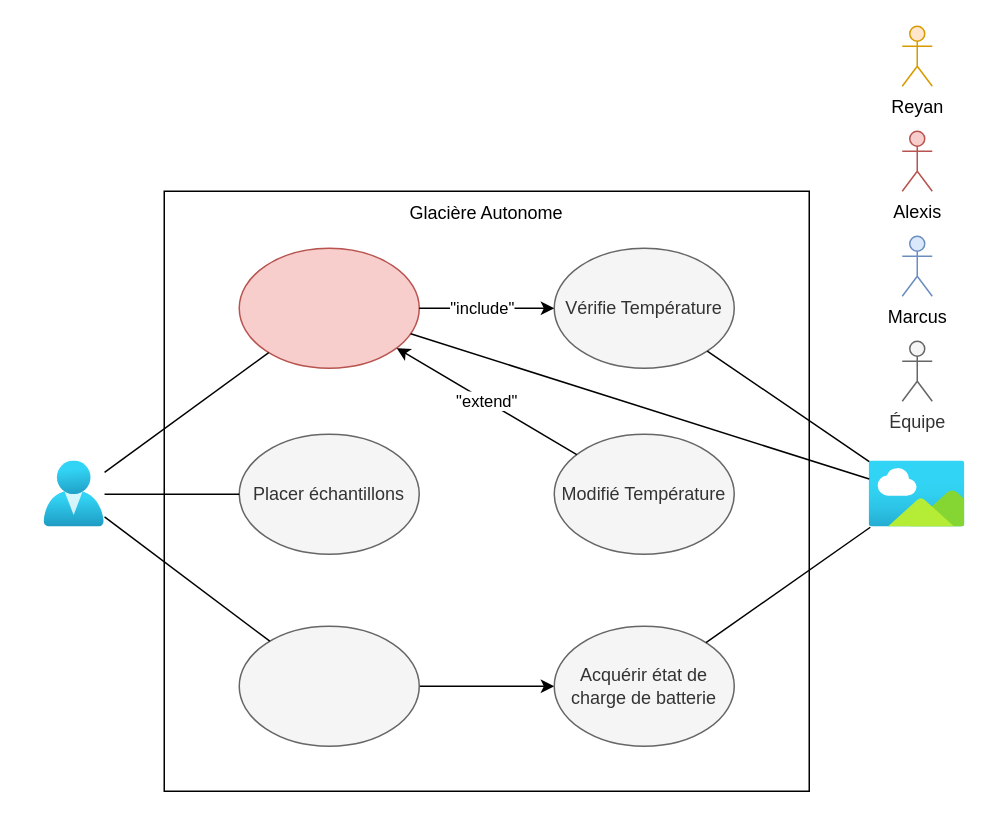
The diagram is 992 pixels wide and 818 high, and some of its shapes have lost their labels. The centre of each missing label's shape, as x and y in pixels:
Acquérir consigne température: point 328,307
Interface Homme / Machine: point 916,493
Recharger batterie: point 328,685
Élève de Lycée Thère: point 74,493
